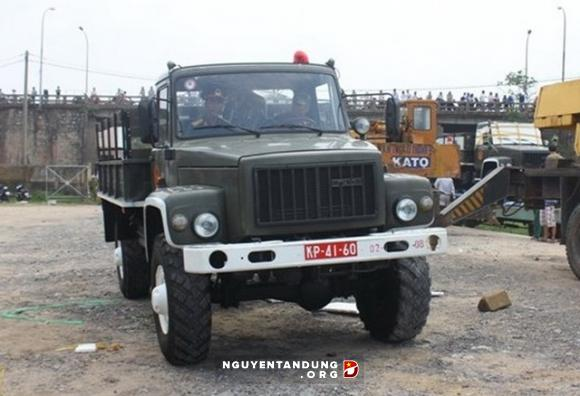plate: (301, 239, 360, 260)
